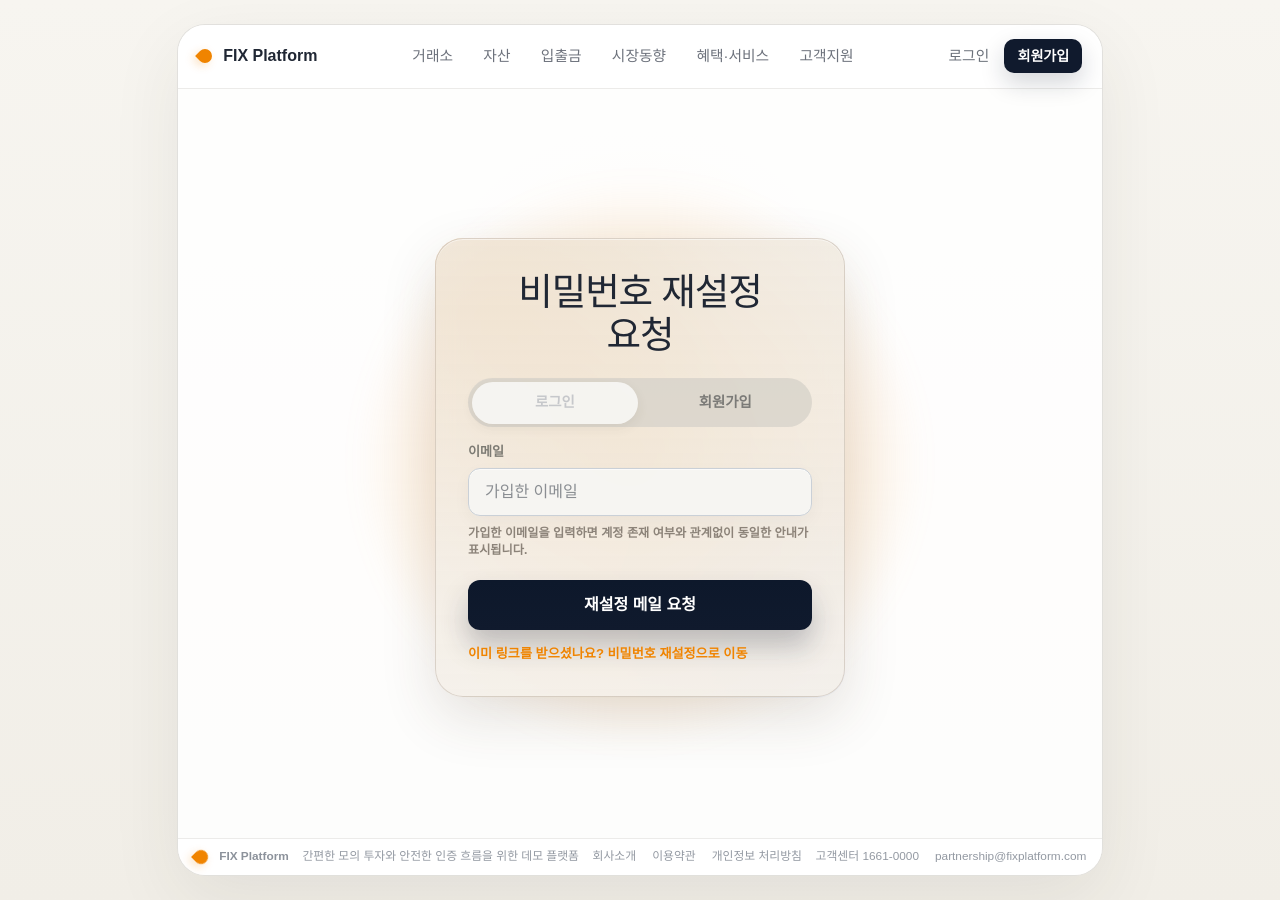
Test: password recovery routes › shows the same accepted copy for known@fix.com
In the field with test id "forgot-password-email": [640, 492] box [468, 468, 812, 516], type "known@fix.com"
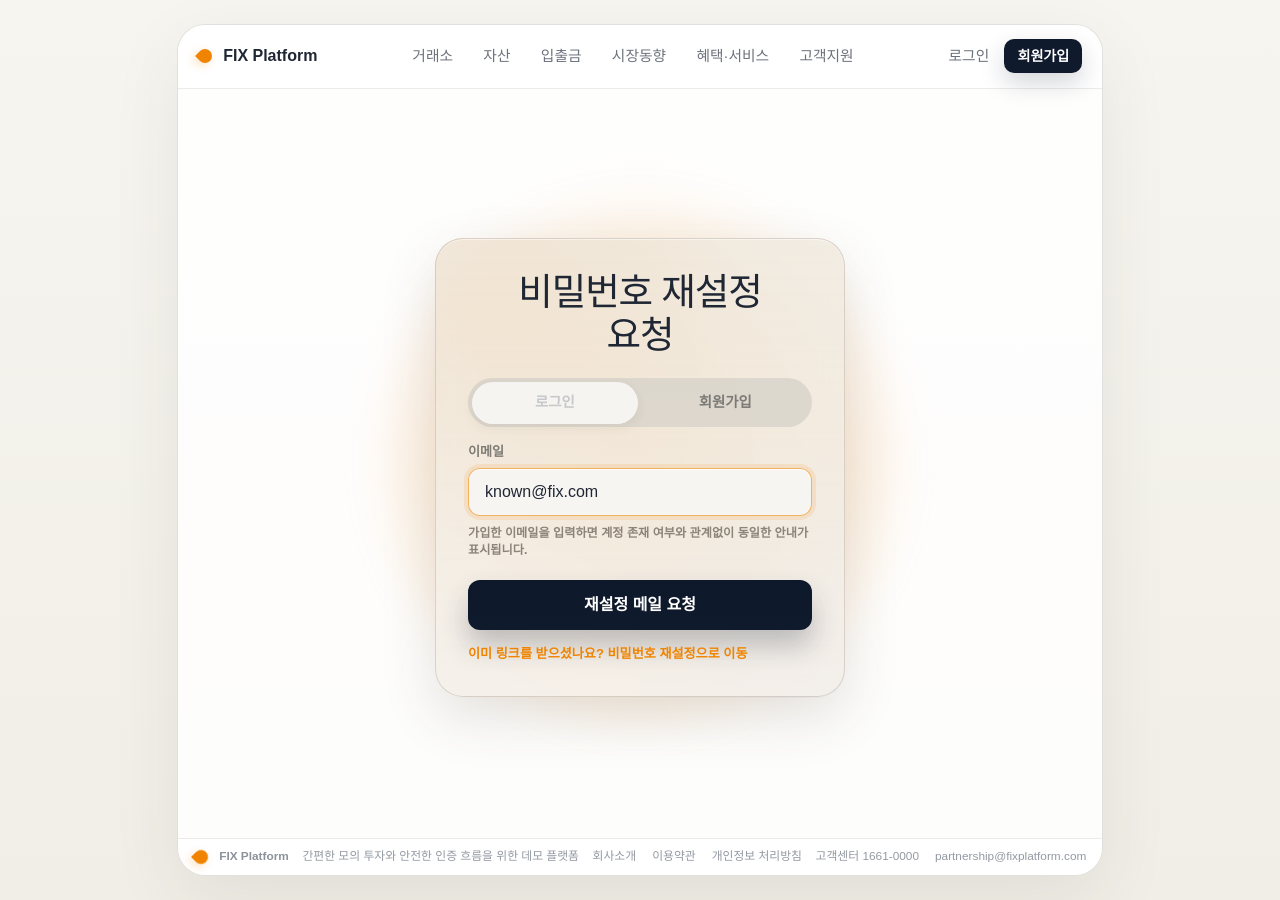
Click the button with test id "forgot-password-submit": [640, 605] box [468, 580, 812, 630]
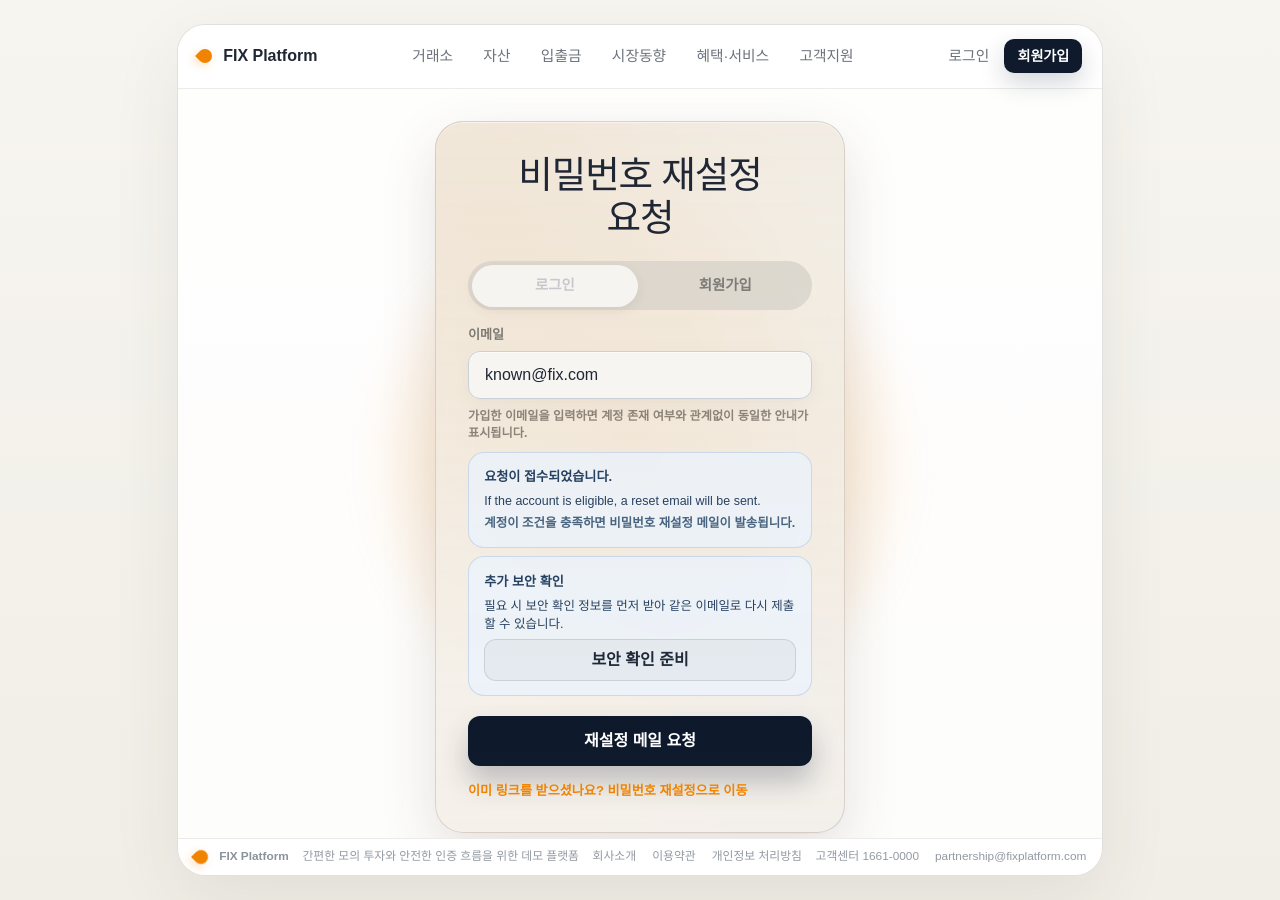
expect the message with test id "forgot-password-accepted" shows "If the account is eligible, a reset email will be sent.": met, box [484, 494, 761, 508]
